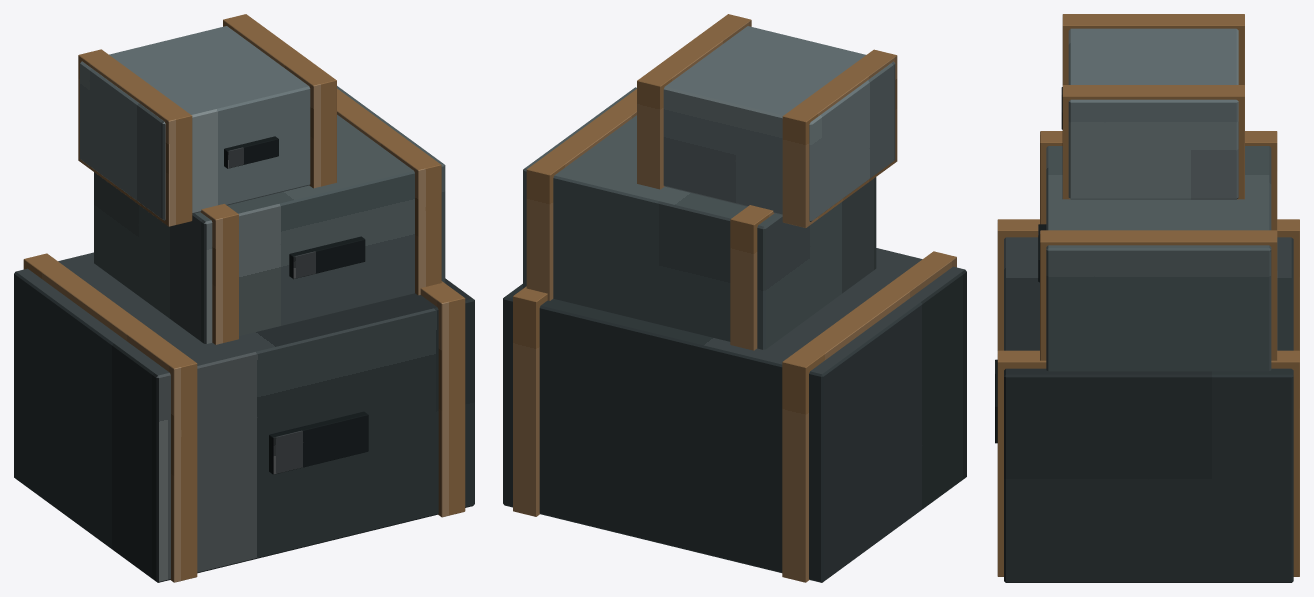
The model's file is supply_crates.glb.
The picture shows the model from 3 angles, left to right: view 1: azimuth 30°, elevation 25°; view 2: azimuth 150°, elevation 25°; view 3: azimuth 270°, elevation 25°; orthographic projection.
Parts seen in each view (by area): view 1: CrateLarge, CrateMedium, CrateSmall, LargeBand_1, LargeBand_2, SmallBand_1, MediumBand_2, SmallBand_2, LargeHandle, MediumBand_1, MediumHandle, SmallHandle; view 2: CrateLarge, CrateMedium, CrateSmall, LargeBand_1, LargeBand_2, SmallBand_1, MediumBand_2, SmallBand_2, MediumBand_1; view 3: CrateLarge, CrateMedium, CrateSmall, MediumBand_2, LargeBand_2, SmallBand_2, SmallBand_1, LargeBand_1, MediumBand_1.
Part boxes in pixels (left/top/right/bottom): CrateLarge: left=14, top=252, right=474, bottom=582; CrateMedium: left=94, top=86, right=445, bottom=343; CrateSmall: left=80, top=26, right=310, bottom=220; LargeBand_1: left=23, top=253, right=197, bottom=582; LargeBand_2: left=420, top=281, right=465, bottom=517; SmallBand_1: left=78, top=49, right=192, bottom=226; MediumBand_2: left=337, top=88, right=441, bottom=295; SmallBand_2: left=223, top=14, right=336, bottom=188; LargeHandle: left=269, top=411, right=368, bottom=474; MediumBand_1: left=200, top=204, right=238, bottom=344; MediumHandle: left=289, top=236, right=365, bottom=279; SmallHandle: left=224, top=136, right=278, bottom=168; CrateLarge: left=503, top=248, right=966, bottom=582; CrateMedium: left=523, top=87, right=876, bottom=349; CrateSmall: left=663, top=26, right=895, bottom=221; LargeBand_1: left=782, top=251, right=956, bottom=582; LargeBand_2: left=513, top=286, right=547, bottom=516; SmallBand_1: left=782, top=49, right=897, bottom=227; MediumBand_2: left=526, top=89, right=636, bottom=300; SmallBand_2: left=637, top=14, right=751, bottom=189; MediumBand_1: left=730, top=205, right=774, bottom=350; CrateLarge: left=1004, top=237, right=1293, bottom=582; CrateMedium: left=1046, top=146, right=1271, bottom=371; CrateSmall: left=1068, top=28, right=1238, bottom=199; MediumBand_2: left=1040, top=230, right=1277, bottom=360; LargeBand_2: left=997, top=350, right=1299, bottom=576; SmallBand_2: left=1062, top=85, right=1244, bottom=199; SmallBand_1: left=1062, top=14, right=1244, bottom=84; LargeBand_1: left=997, top=219, right=1299, bottom=350; MediumBand_1: left=1040, top=131, right=1277, bottom=230.
Bounding box in the file's own units: 0.74 × 0.9575 × 0.6102.
1 material, 1 textured.
